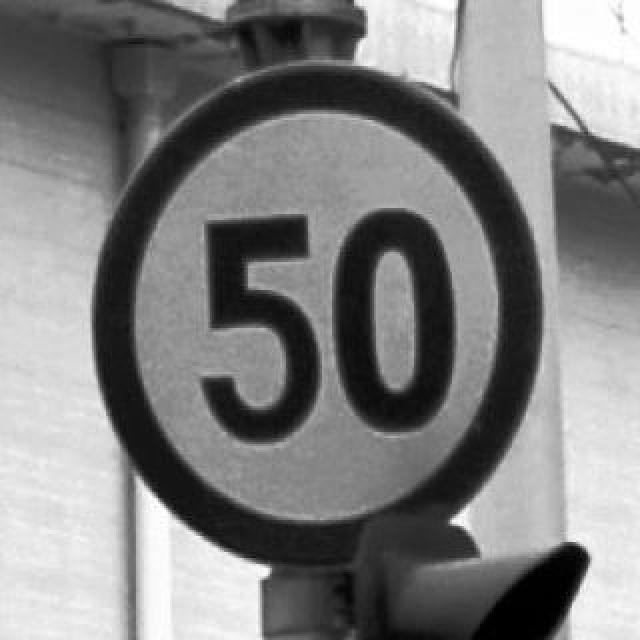50 kph: (94, 58, 542, 568)
